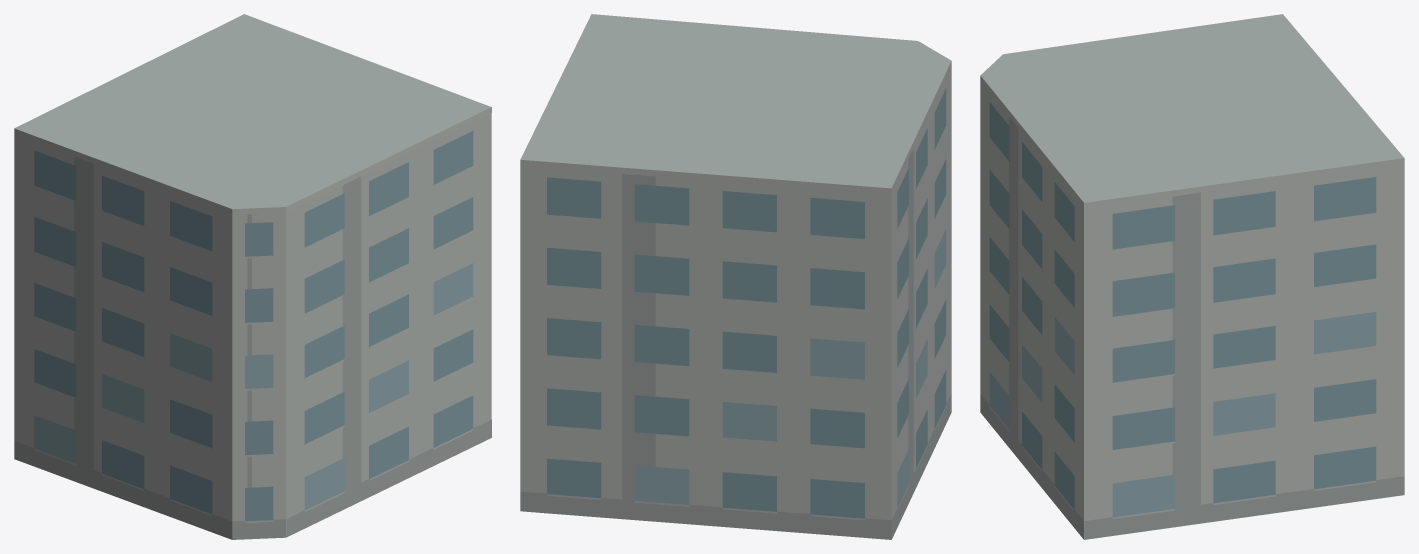
File: survey-upis-32838668.glb
The picture shows the model from 3 angles, left to right: view 1: azimuth 30°, elevation 25°; view 2: azimuth 150°, elevation 25°; view 3: azimuth 270°, elevation 25°; orthographic projection. The views are drawn at different scales.
Visible parts, largest first — view 1: survey-upis-32838668.tmp; view 2: survey-upis-32838668.tmp; view 3: survey-upis-32838668.tmp.
Boxes of the visible parts, x1,y1,x2,y2 form: survey-upis-32838668.tmp: (14,14,491,539); survey-upis-32838668.tmp: (520,14,951,539); survey-upis-32838668.tmp: (980,14,1404,539).
Bounding box in the file's own units: 16.24 × 13.5 × 15.41.
